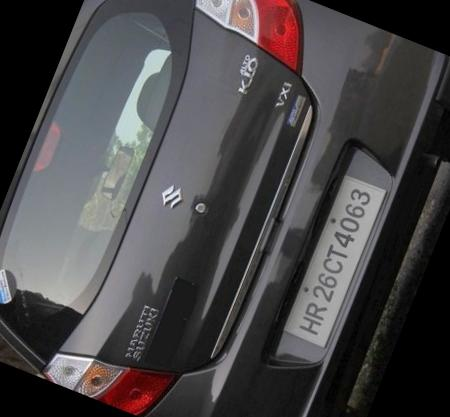plate: (264, 160, 402, 357)
